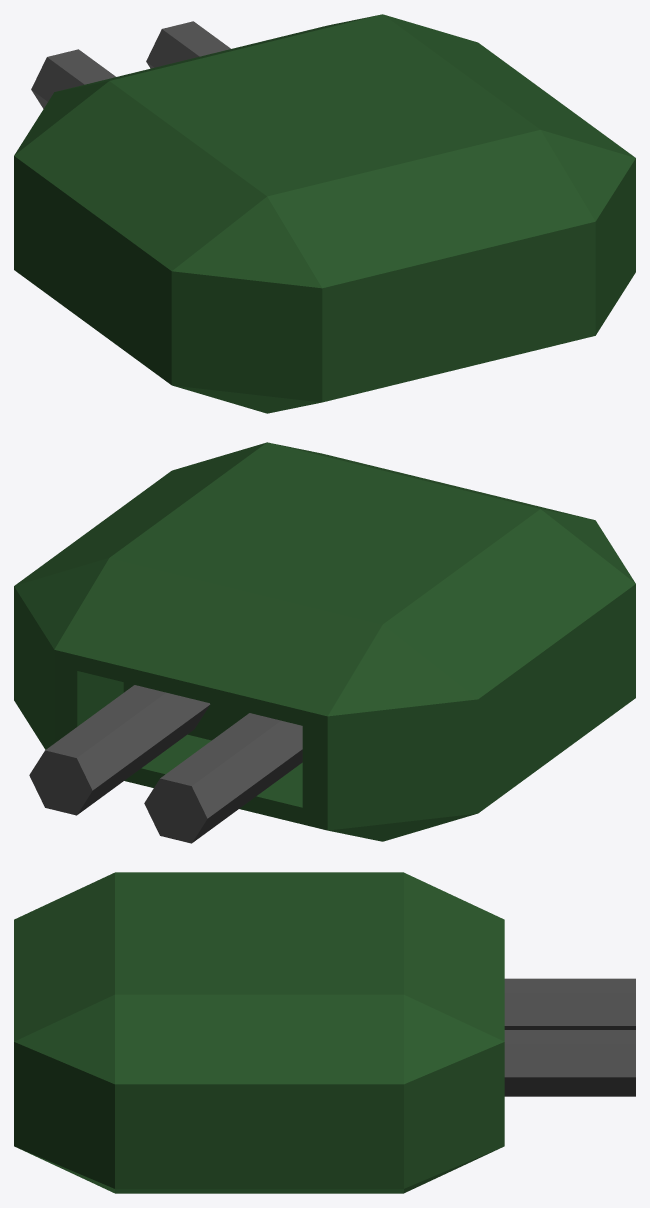
Rendered from Tower Head.fbx.
The picture shows the model from 3 angles, top to bottom: view 1: azimuth 30°, elevation 25°; view 2: azimuth 150°, elevation 25°; view 3: azimuth 270°, elevation 25°; orthographic projection. The views are drawn at different scales.
Parts seen in each view (by area): view 1: Dualshot 1 Direction Head; view 2: Dualshot 1 Direction Head; view 3: Dualshot 1 Direction Head.
Boxes of the visible parts, box(x1,y1,x2,y2) form: Dualshot 1 Direction Head: box(14, 14, 635, 413); Dualshot 1 Direction Head: box(14, 442, 635, 843); Dualshot 1 Direction Head: box(14, 872, 635, 1193).
Bounding box in the file's own units: 121 × 54.18 × 154.
